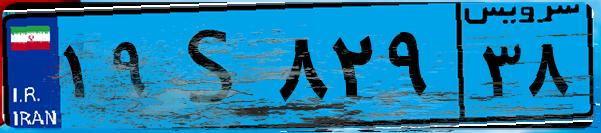1: (57, 26, 110, 100)
2: (330, 28, 385, 110)
3: (475, 38, 525, 113)
8: (270, 28, 330, 110), (525, 38, 570, 115)
9: (385, 28, 445, 110), (110, 28, 158, 98)
S: (158, 12, 270, 120)
